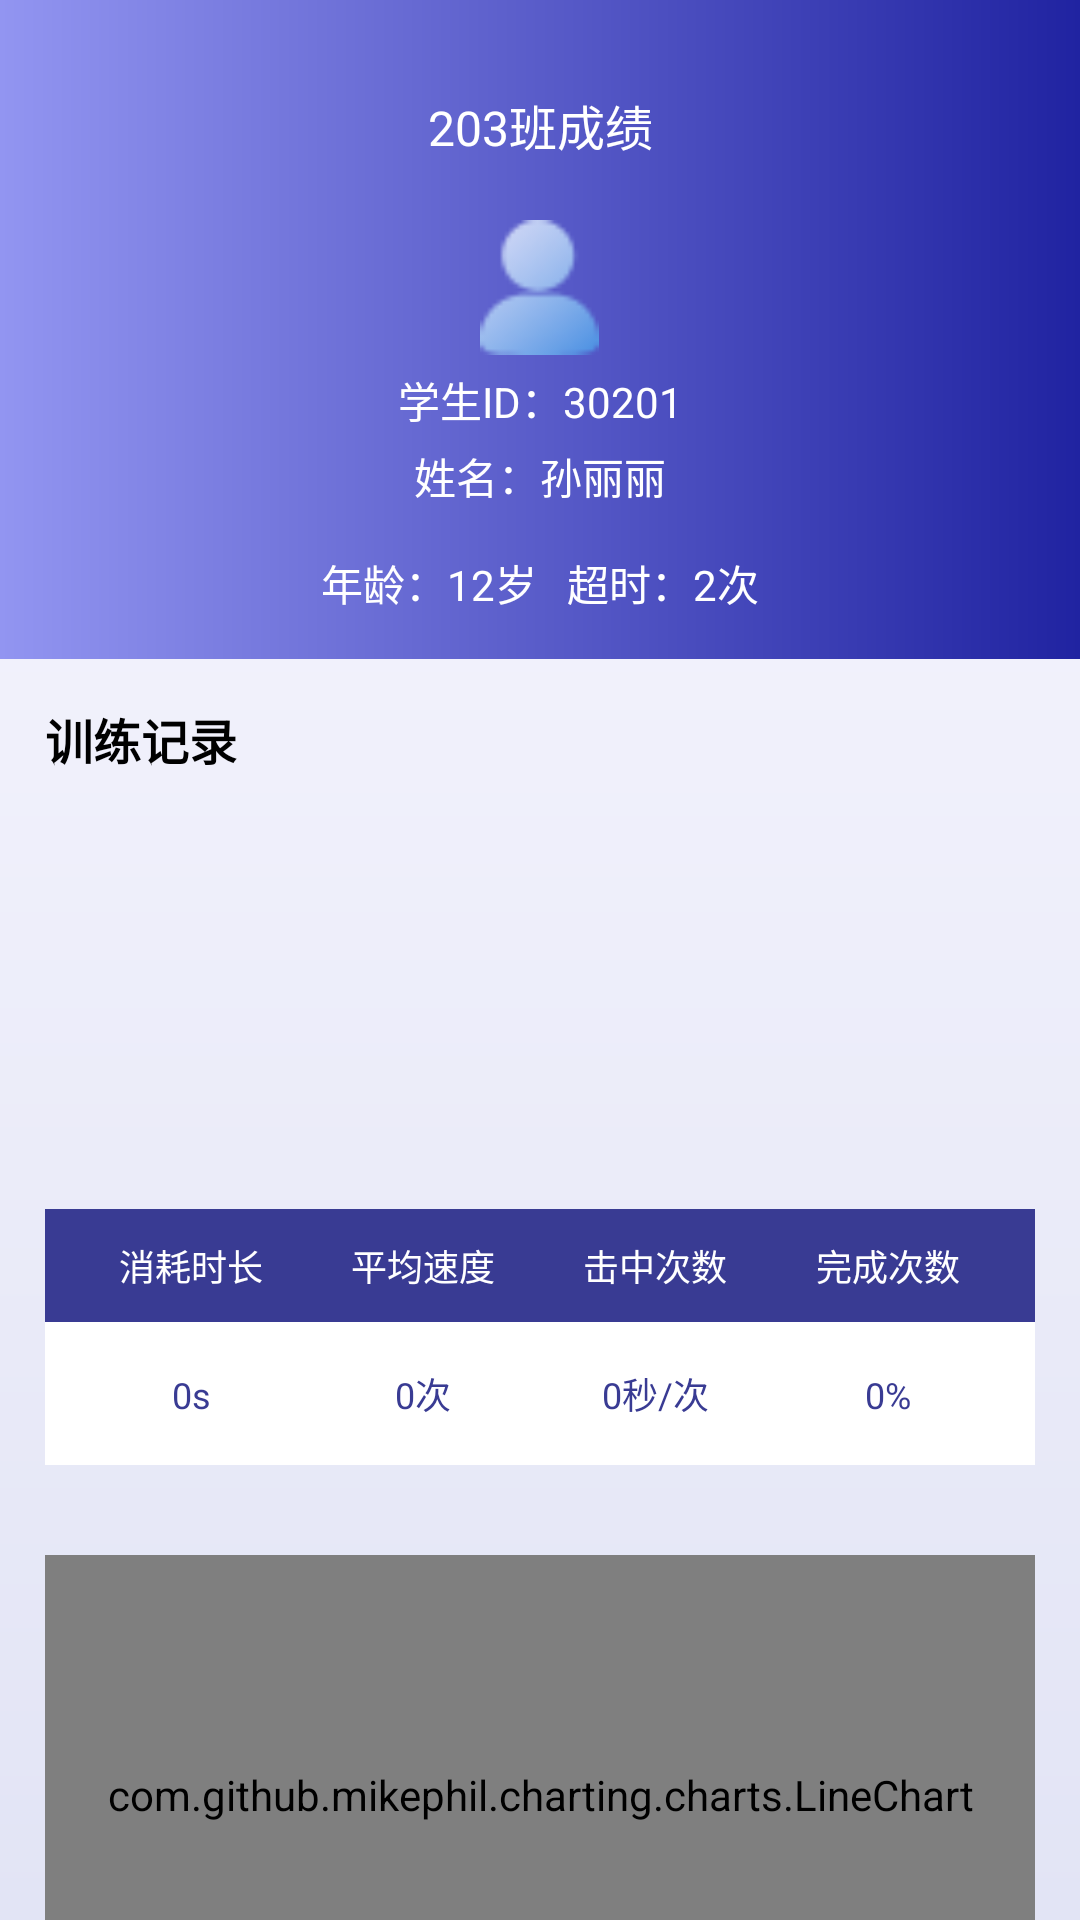

Screen size 1080px x 1920px. Icon name, then its center in pixels as (x,y):
head: (539,287)
